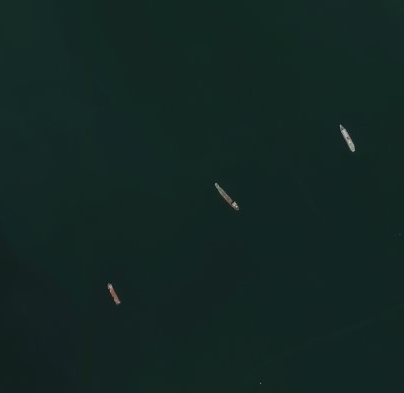ship: (211, 182, 244, 214), (336, 122, 363, 156), (104, 282, 126, 309)
